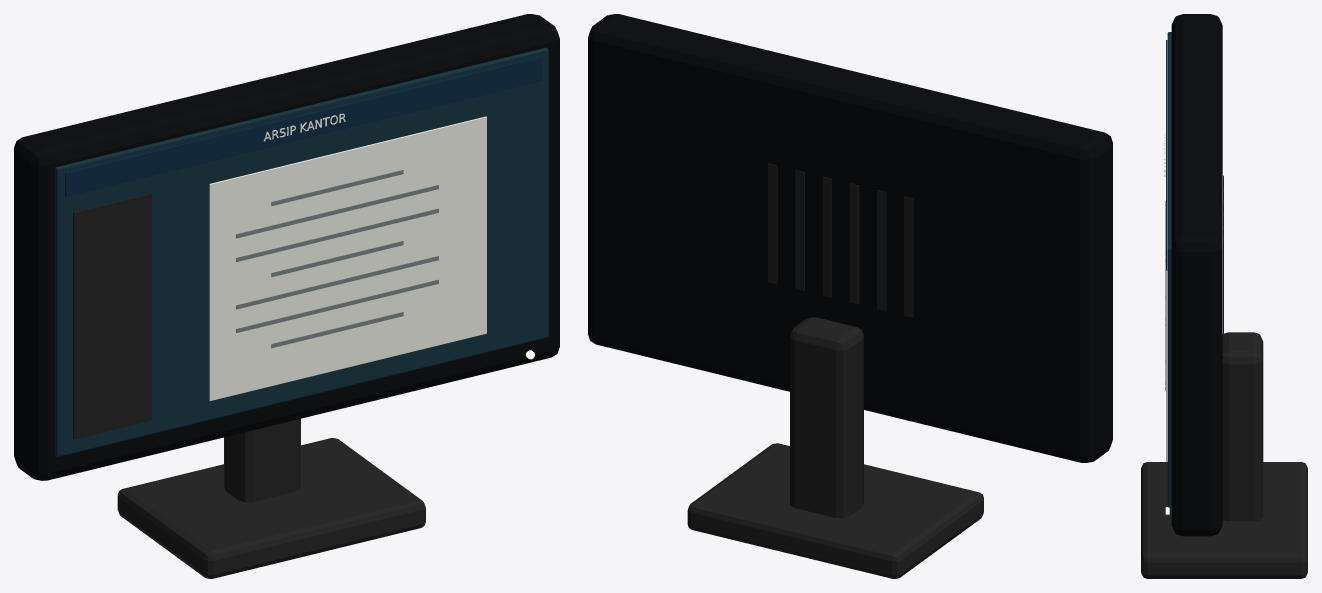
Rendered from OAA_Monitor_Desktop_24in.fbx.
3 renders of one model, left to right at view 1: azimuth 30°, elevation 25°; view 2: azimuth 150°, elevation 25°; view 3: azimuth 270°, elevation 25°, orthographic. The views are drawn at different scales.
Visible parts, largest first — view 1: Body; view 2: Body; view 3: Body.
Part boxes in pixels (x1,y1,x2,y2): Body: (14, 14, 559, 578); Body: (588, 14, 1112, 578); Body: (1141, 14, 1307, 578).
Size of the model in its own units: 0.56 by 0.4585 by 0.17.
